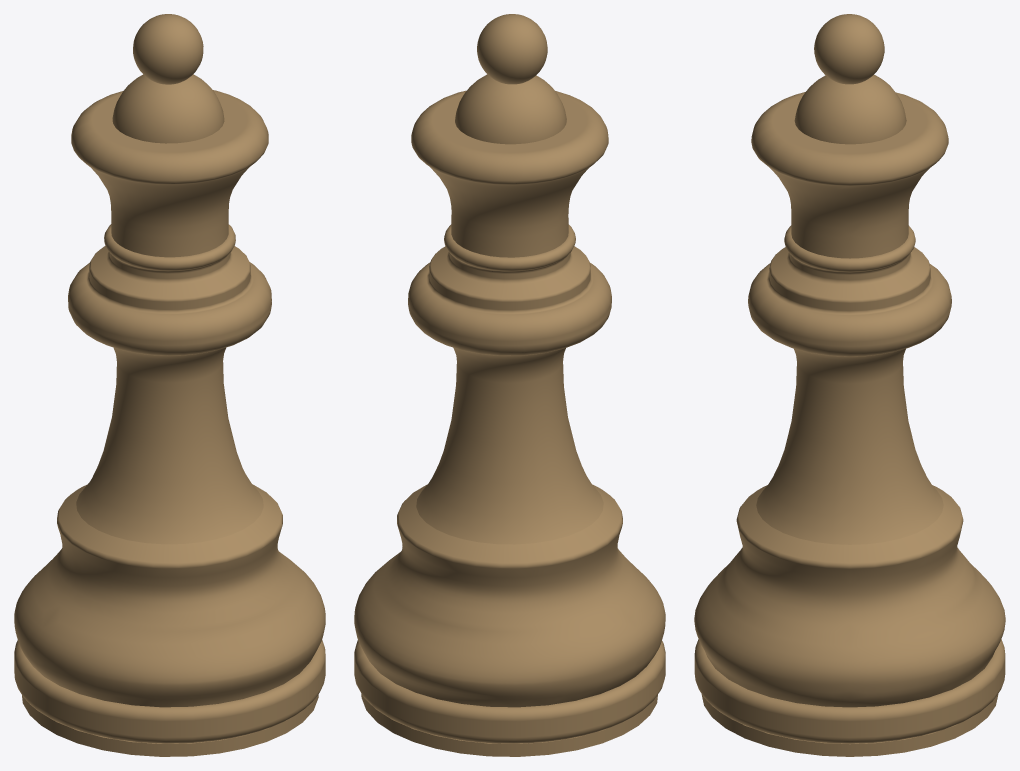
File: QueenGold.fbx
3 views of the same model, side by side, from view 1: azimuth 30°, elevation 25°; view 2: azimuth 150°, elevation 25°; view 3: azimuth 270°, elevation 25° (orthographic).
Visible parts, largest first — view 1: Ферзь (1); view 2: Ферзь (1); view 3: Ферзь (1).
Boxes of the visible parts, <box> form: Ферзь (1): <box>14,14,325,756</box>; Ферзь (1): <box>354,14,665,756</box>; Ферзь (1): <box>694,14,1005,756</box>.
Size of the model in its own units: 2.2 by 5.28 by 2.2.
